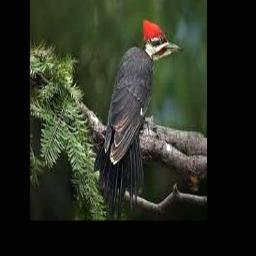Woodpecker: (95, 17, 182, 220)
